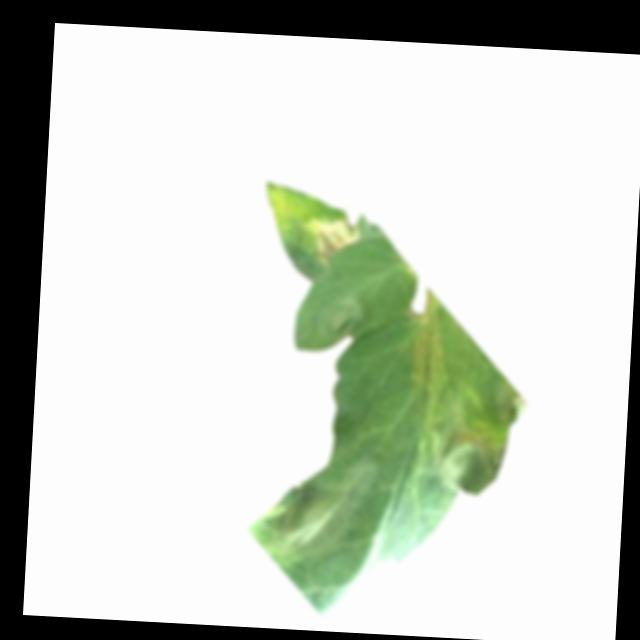Late_blight: (258, 481, 357, 567), (424, 425, 508, 502), (313, 213, 362, 272), (319, 295, 370, 344), (486, 375, 530, 426)
